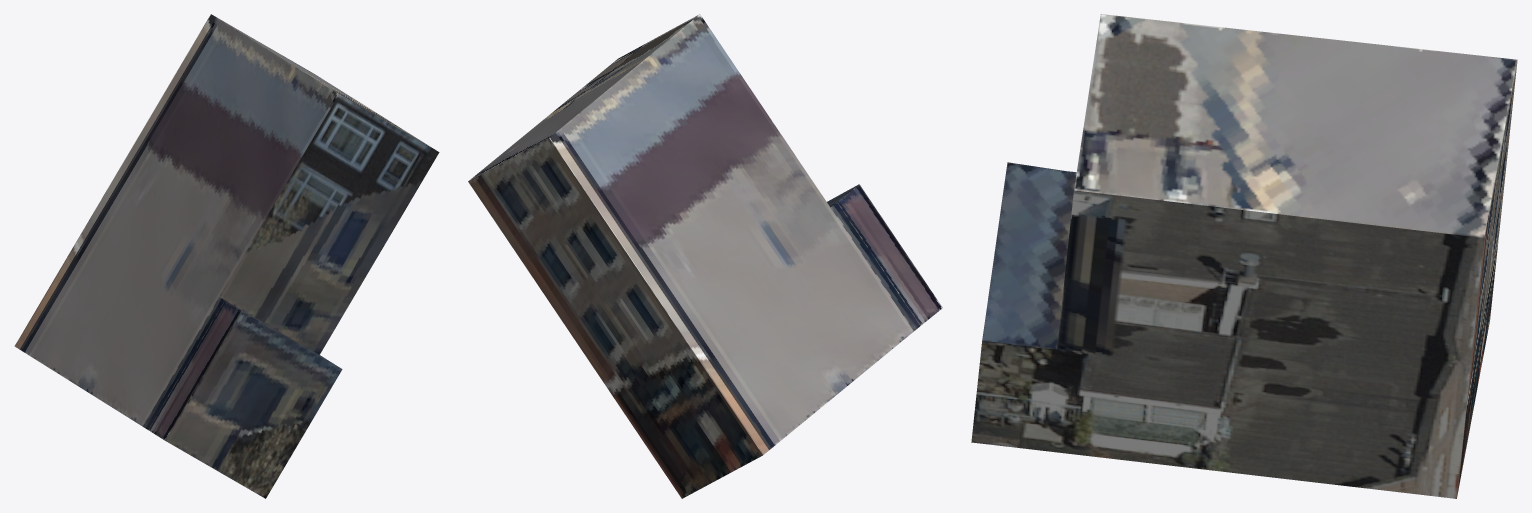
The picture shows the model from 3 angles, left to right: view 1: azimuth 30°, elevation 25°; view 2: azimuth 150°, elevation 25°; view 3: azimuth 270°, elevation 25°; orthographic projection. The views are drawn at different scales.
Parts seen in each view (by area): view 1: BAG_0599100000638394 (×3); view 2: BAG_0599100000638394 (×2); view 3: BAG_0599100000638394 (×3).
Part boxes in pixels (x1=…): BAG_0599100000638394 (×3): x1=14, y1=14, x2=439, y2=498; BAG_0599100000638394 (×2): x1=468, y1=14, x2=942, y2=498; BAG_0599100000638394 (×3): x1=971, y1=14, x2=1517, y2=498.
Size of the model in its own units: 14.38 by 16.44 by 14.56.
1 material, 1 textured.
